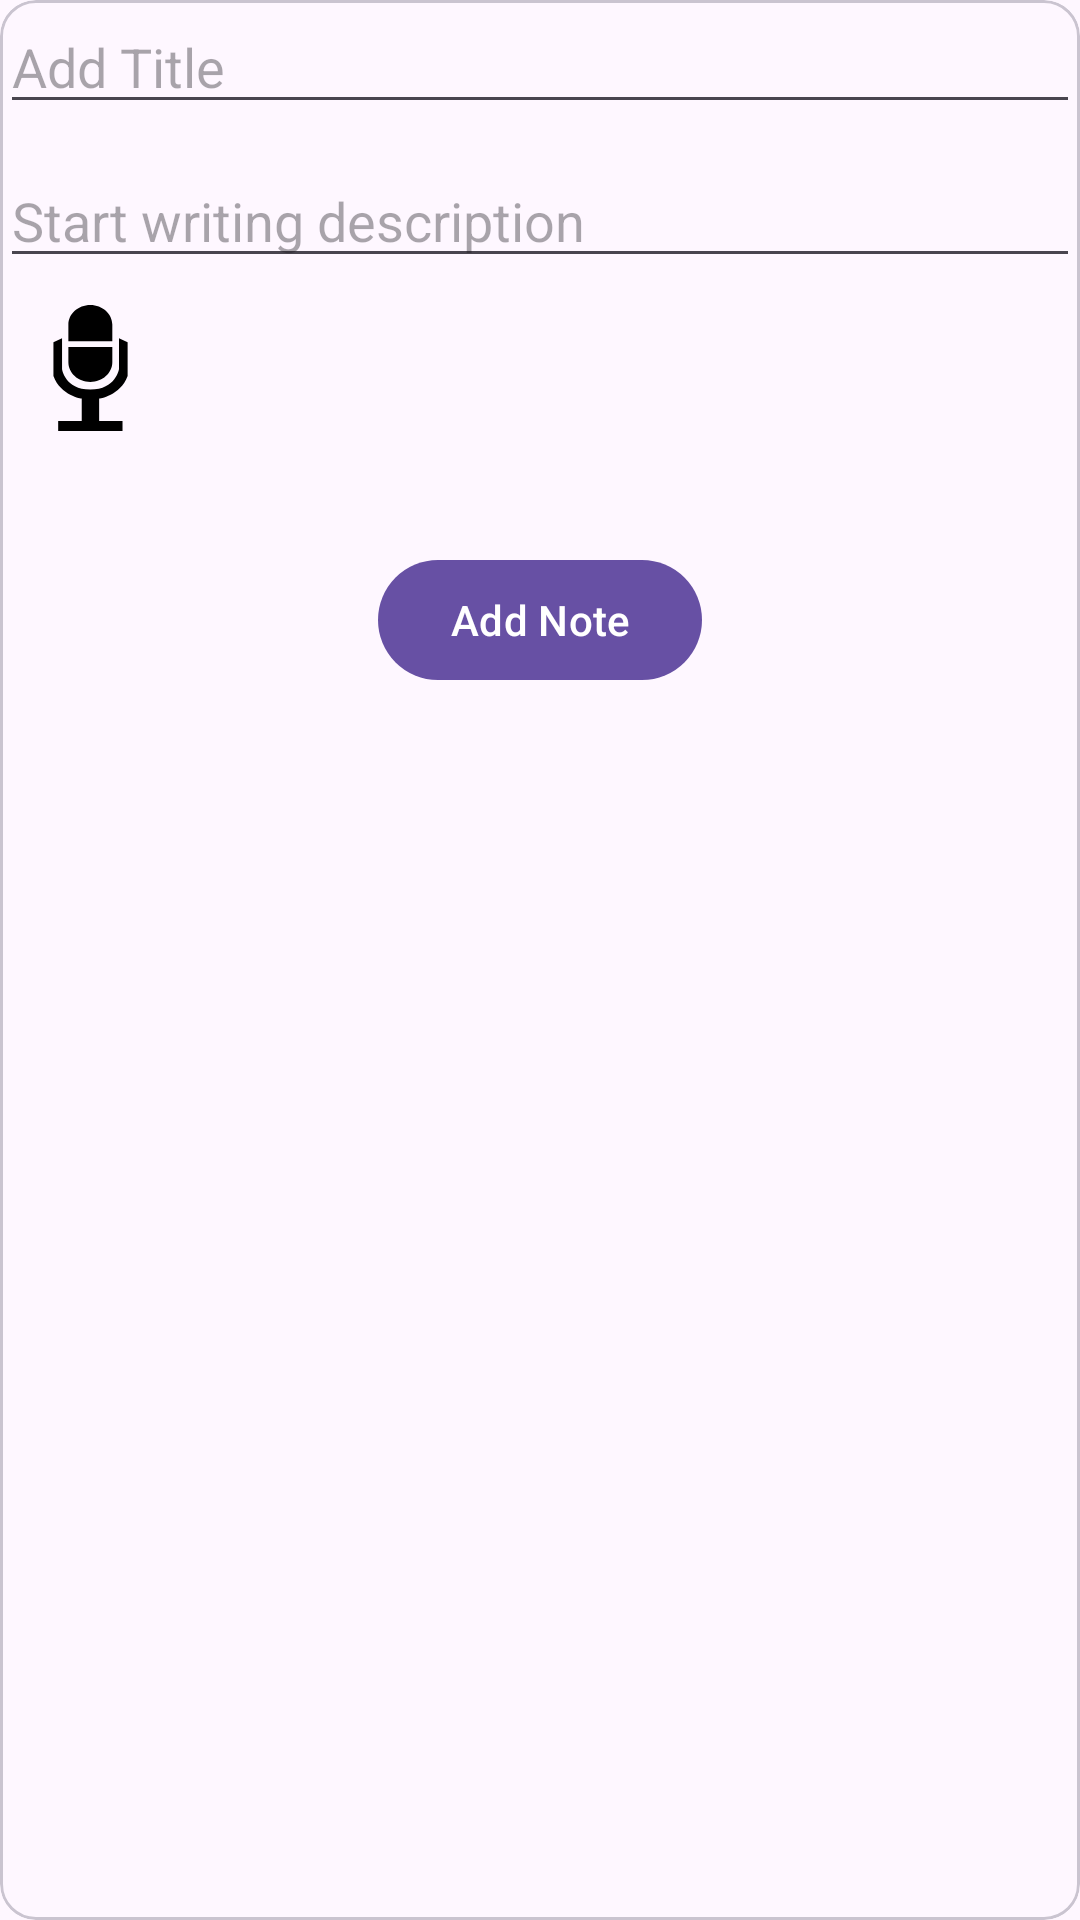

Where to tap for icons on this 1080w x 1920h app screen, as [x,y]:
record: [90,368]
